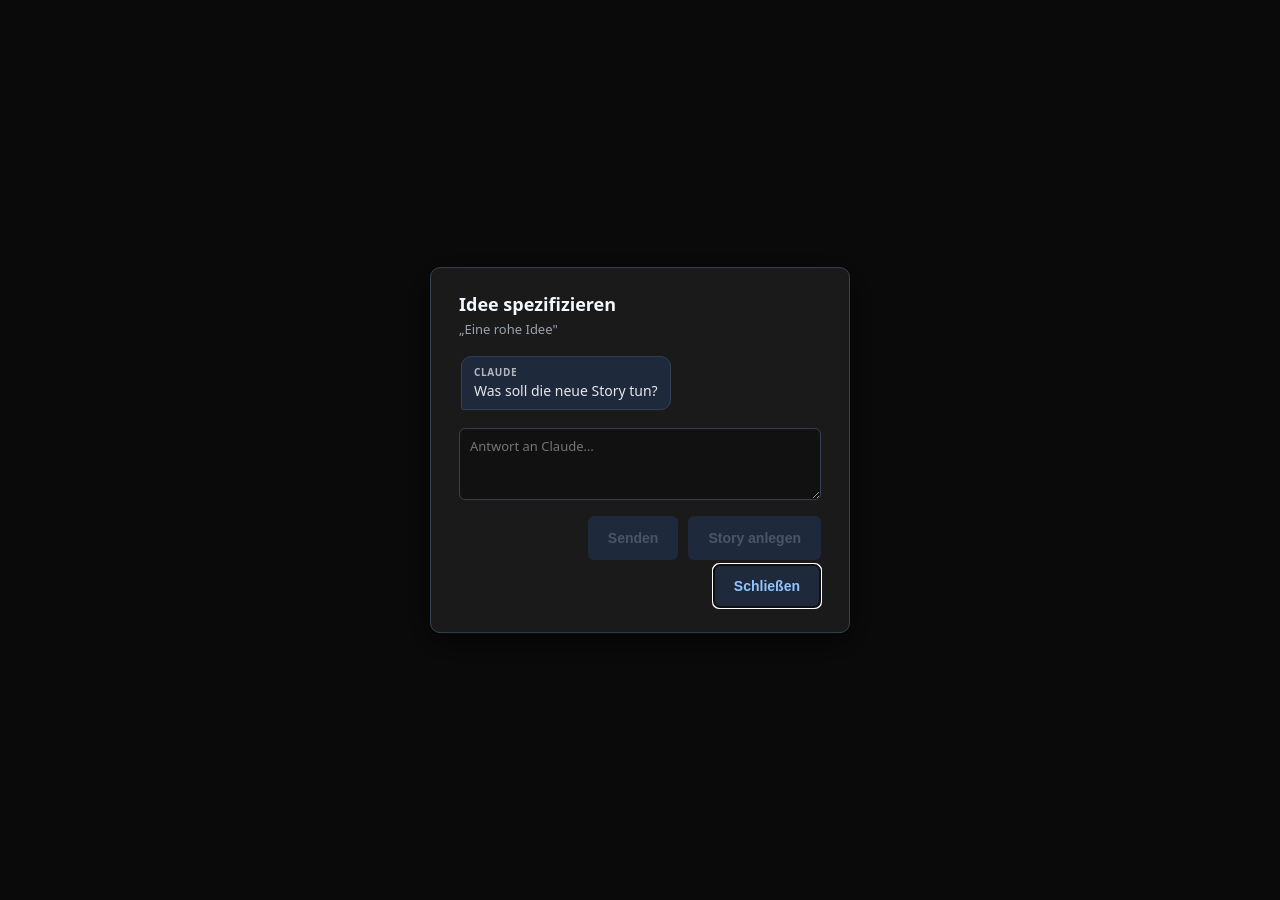
it: IdeaSpecifyChatModal — AC11: „Story anlegen" nur mit readyToSpecify › "Story anlegen" becomes enabled once the chat reports readyToSpecify: true
Expected: the element with test id "idea-specify-message-list" is shown, x1=461 y1=356 x2=671 y2=410
Type "Das ist alles." into the text box with test id "idea-specify-input" at coordinates (640, 464), box x1=459 y1=428 x2=821 y2=500
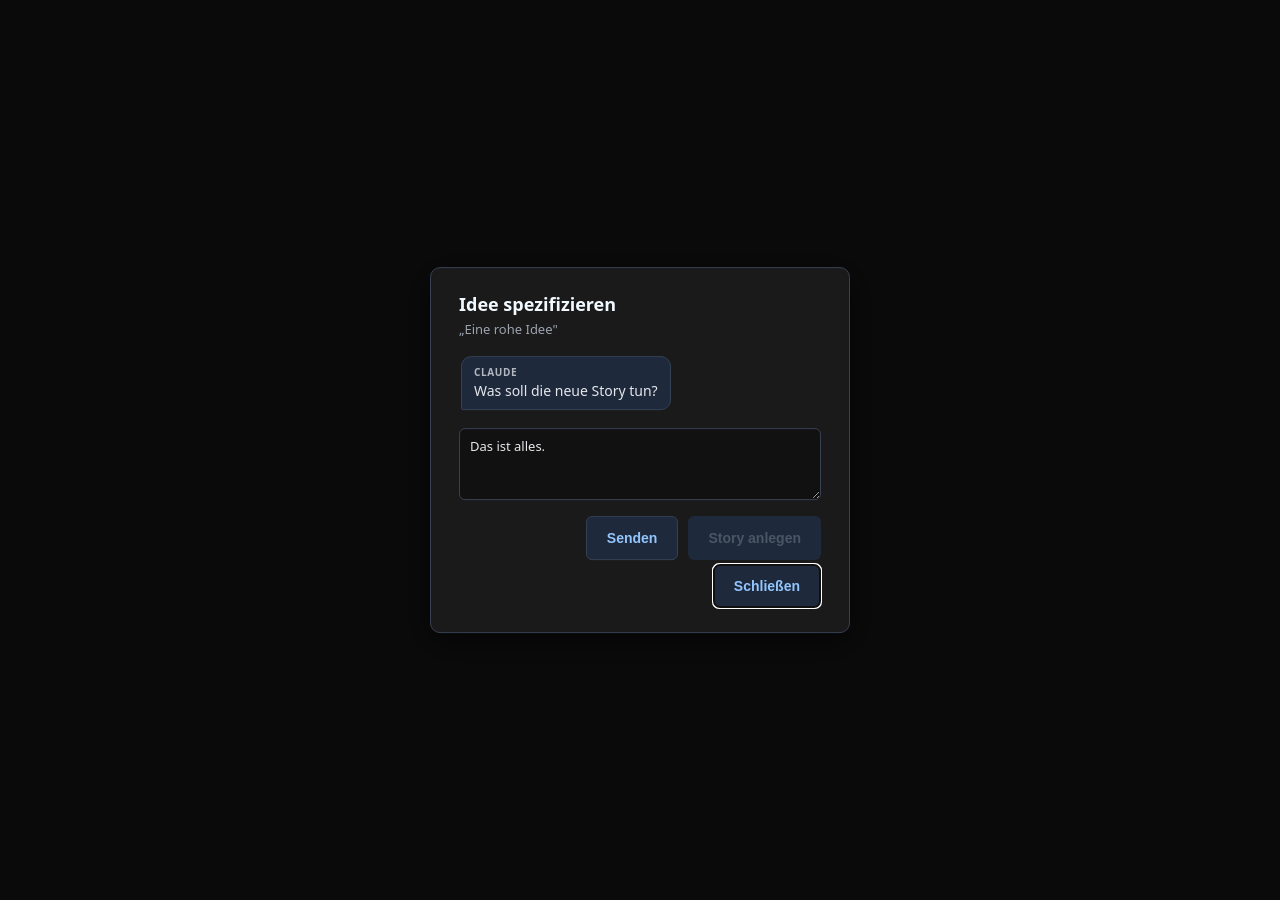
Click the button with test id "idea-specify-send-btn" at coordinates (632, 538), box x1=586 y1=516 x2=678 y2=560
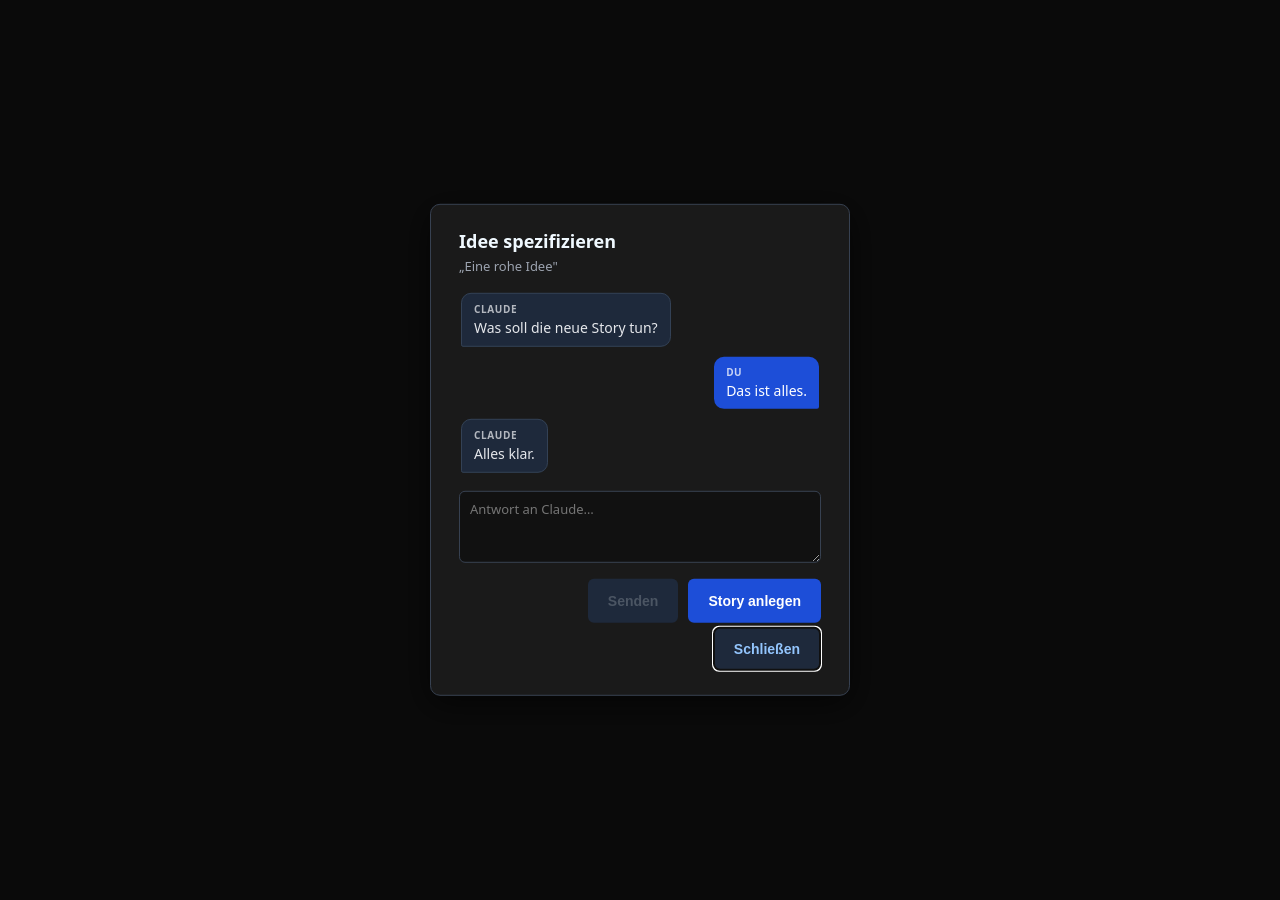
Expected: the button with test id "idea-specify-finalize-btn" is enabled, x1=688 y1=579 x2=821 y2=623
